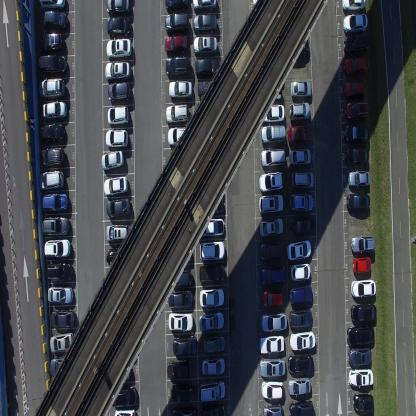car: (38, 145, 65, 169), (38, 121, 65, 145), (38, 75, 65, 99), (45, 261, 74, 283), (36, 53, 66, 74), (199, 378, 225, 402), (38, 168, 65, 191), (43, 237, 71, 259), (41, 191, 69, 213), (343, 34, 371, 56), (347, 324, 375, 346), (165, 55, 191, 78), (260, 145, 286, 168), (260, 122, 286, 145), (49, 355, 75, 378), (106, 37, 132, 60), (259, 356, 286, 378), (289, 330, 316, 352), (258, 334, 285, 356), (41, 216, 70, 236), (49, 330, 73, 354), (259, 215, 284, 238), (166, 358, 192, 380), (112, 385, 138, 407), (287, 352, 313, 374), (261, 310, 287, 332), (260, 264, 286, 286), (286, 238, 312, 260), (258, 193, 284, 215), (258, 170, 284, 192), (342, 12, 368, 34), (344, 123, 370, 145), (198, 216, 225, 237), (343, 56, 370, 77), (46, 284, 74, 304), (289, 283, 313, 306), (172, 334, 197, 356), (259, 239, 284, 261), (42, 99, 67, 121), (43, 10, 68, 32), (351, 302, 376, 324), (198, 310, 224, 331), (166, 126, 192, 147), (199, 240, 226, 260), (106, 246, 133, 266), (37, 32, 64, 52), (165, 102, 189, 124), (168, 78, 192, 100), (289, 308, 313, 330), (291, 215, 315, 237), (101, 149, 125, 171), (199, 263, 224, 284), (168, 288, 193, 309), (289, 191, 314, 212), (287, 124, 312, 145), (103, 175, 128, 196), (345, 100, 370, 121), (194, 57, 220, 77), (259, 102, 285, 122), (350, 279, 376, 299), (104, 61, 131, 80), (201, 333, 224, 355), (288, 374, 311, 396), (108, 81, 131, 103), (171, 382, 195, 403), (193, 34, 217, 55), (164, 12, 188, 33), (164, 34, 188, 55), (168, 311, 193, 331), (50, 308, 75, 328), (106, 17, 131, 37), (344, 147, 370, 166), (348, 368, 374, 387), (106, 104, 128, 126), (105, 127, 128, 148), (201, 356, 225, 376), (168, 267, 192, 287), (199, 194, 223, 214), (106, 198, 130, 218), (348, 346, 372, 366), (199, 288, 224, 307), (192, 13, 217, 32), (105, 223, 130, 242), (288, 398, 314, 416), (197, 79, 220, 99), (260, 380, 284, 399), (286, 35, 310, 54), (346, 192, 370, 211), (261, 288, 283, 308), (288, 101, 310, 121), (351, 235, 374, 254), (290, 262, 312, 281), (289, 147, 311, 166), (343, 80, 365, 99), (291, 170, 314, 188), (106, 0, 131, 16), (290, 80, 312, 98), (352, 393, 374, 411), (348, 170, 370, 187), (352, 256, 372, 274), (340, 0, 367, 12), (200, 403, 225, 415), (192, 0, 217, 12), (164, 0, 188, 12), (38, 0, 66, 10), (262, 403, 284, 415), (170, 405, 196, 415), (114, 406, 136, 416)
